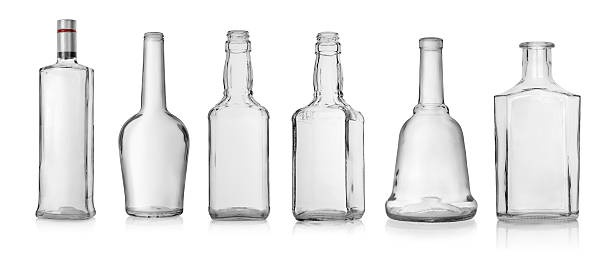emptybottle: (385, 37, 477, 221), (493, 41, 581, 223), (291, 32, 366, 221), (34, 19, 98, 221), (119, 32, 187, 216), (206, 30, 270, 221)
